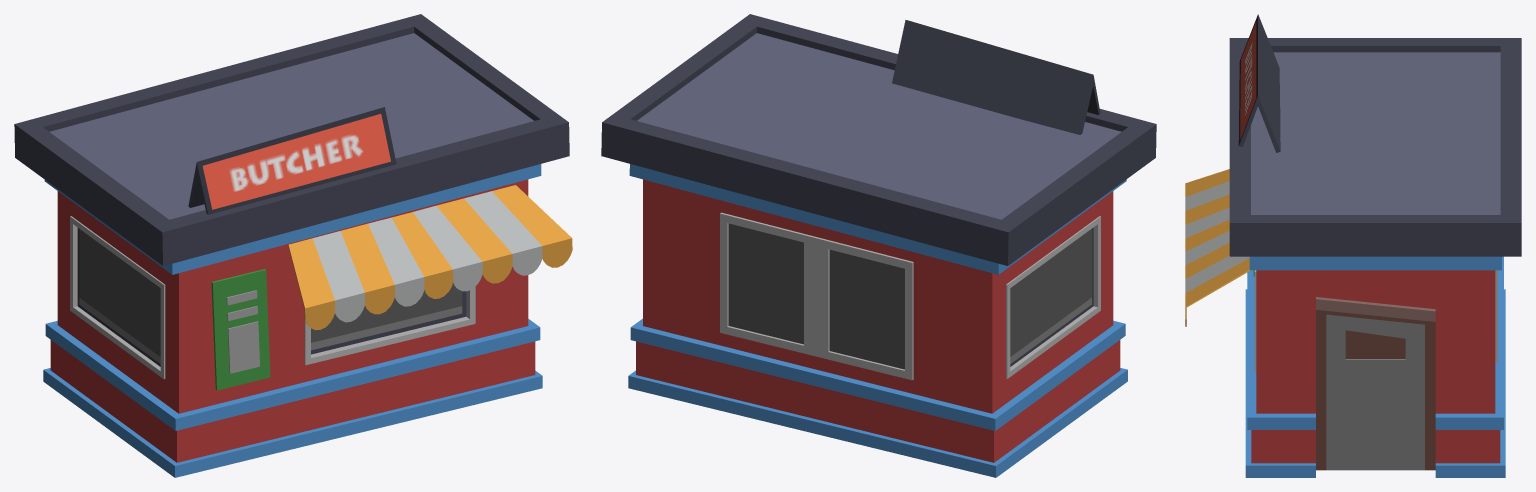
The model's file is butcher03_color01.fbx.
The picture shows the model from 3 angles, left to right: view 1: azimuth 30°, elevation 25°; view 2: azimuth 150°, elevation 25°; view 3: azimuth 270°, elevation 25°; orthographic projection.
Parts seen in each view (by area): view 1: butcher03_color01; view 2: butcher03_color01; view 3: butcher03_color01.
Boxes of the visible parts, bbox=[...] form: butcher03_color01: bbox=[14, 14, 572, 477]; butcher03_color01: bbox=[601, 14, 1156, 477]; butcher03_color01: bbox=[1185, 14, 1521, 477].
Bounding box in the file's own units: 805 × 592 × 584.
